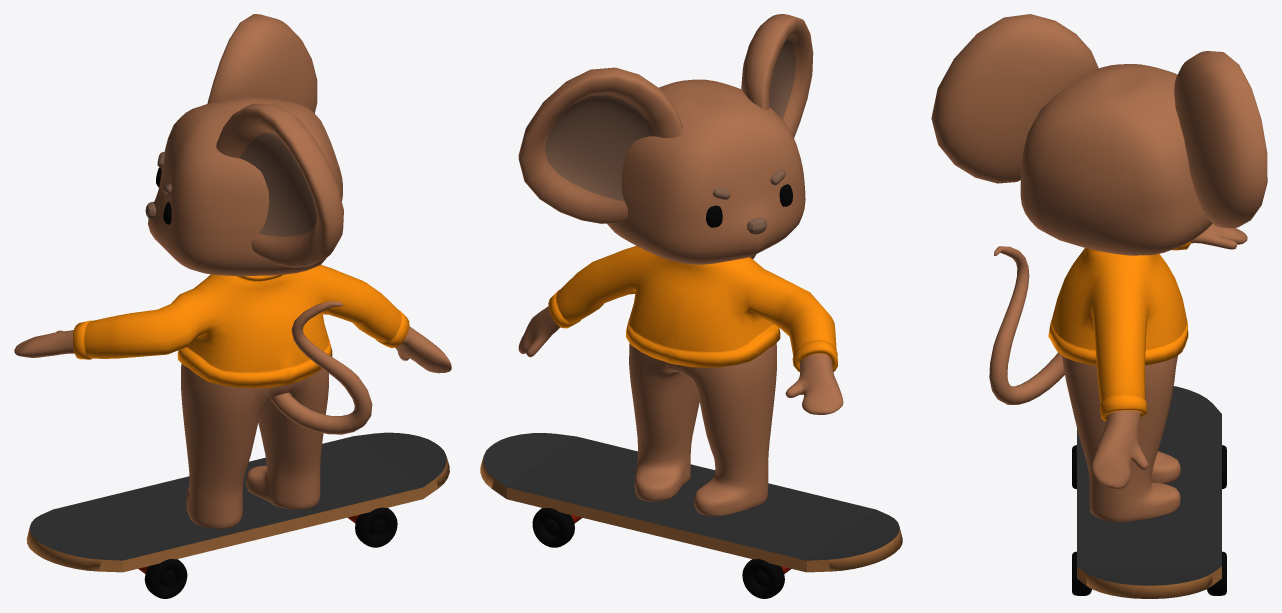
Rendered from snackman_yellow.glb.
The picture shows the model from 3 angles, left to right: view 1: azimuth 30°, elevation 25°; view 2: azimuth 150°, elevation 25°; view 3: azimuth 270°, elevation 25°; orthographic projection. The views are drawn at different scales.
Parts seen in each view (by area): view 1: nose, skateboard_bord.002, skateboard_wheels.002; view 2: nose, skateboard_bord.002, skateboard_wheels.002; view 3: nose, skateboard_bord.002, skateboard_wheels.002.
Part boxes in pixels (x1,y1,x2,y2): nose: (14, 14, 451, 528); skateboard_bord.002: (26, 432, 449, 572); skateboard_wheels.002: (144, 507, 397, 598); nose: (518, 14, 843, 516); skateboard_bord.002: (480, 433, 902, 572); skateboard_wheels.002: (532, 508, 784, 598); nose: (931, 14, 1267, 522); skateboard_bord.002: (1077, 386, 1221, 598); skateboard_wheels.002: (1072, 445, 1226, 595).
Size of the model in its own units: 6.69 by 7.75 by 4.63.
